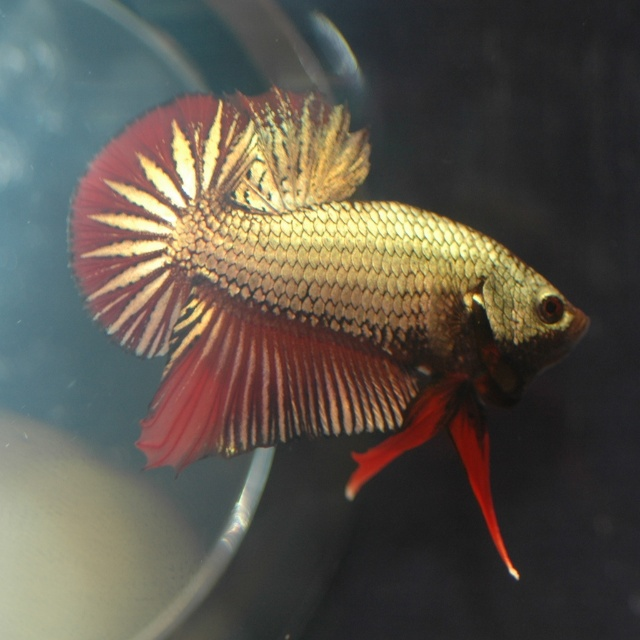Fish: (70, 82, 591, 578)
